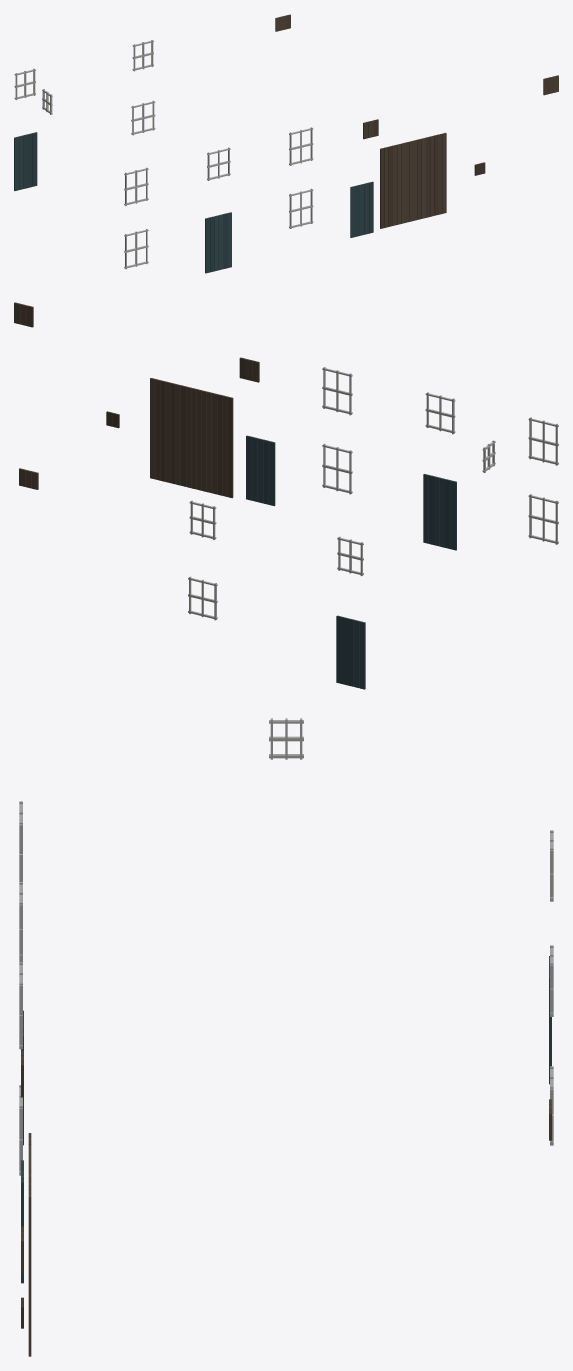
File: SM_Bld_116_Wood.glb
The picture shows the model from 3 angles, top to bottom: view 1: azimuth 30°, elevation 25°; view 2: azimuth 150°, elevation 25°; view 3: azimuth 270°, elevation 25°; orthographic projection. The views are drawn at different scales.
Parts seen in each view (by area): view 1: SM_Bld_116_Wood; view 2: SM_Bld_116_Wood; view 3: SM_Bld_116_Wood.
Boxes of the visible parts, x1,y1,x2,y2 form: SM_Bld_116_Wood: (14, 14, 558, 273); SM_Bld_116_Wood: (14, 302, 558, 689); SM_Bld_116_Wood: (19, 718, 553, 1356).
Bounding box in the file's own units: 17.57 × 5.85 × 9.11.
